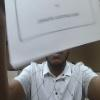notebook: (3, 0, 99, 69)
